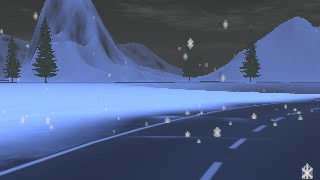Lane: (0, 99, 319, 179)
